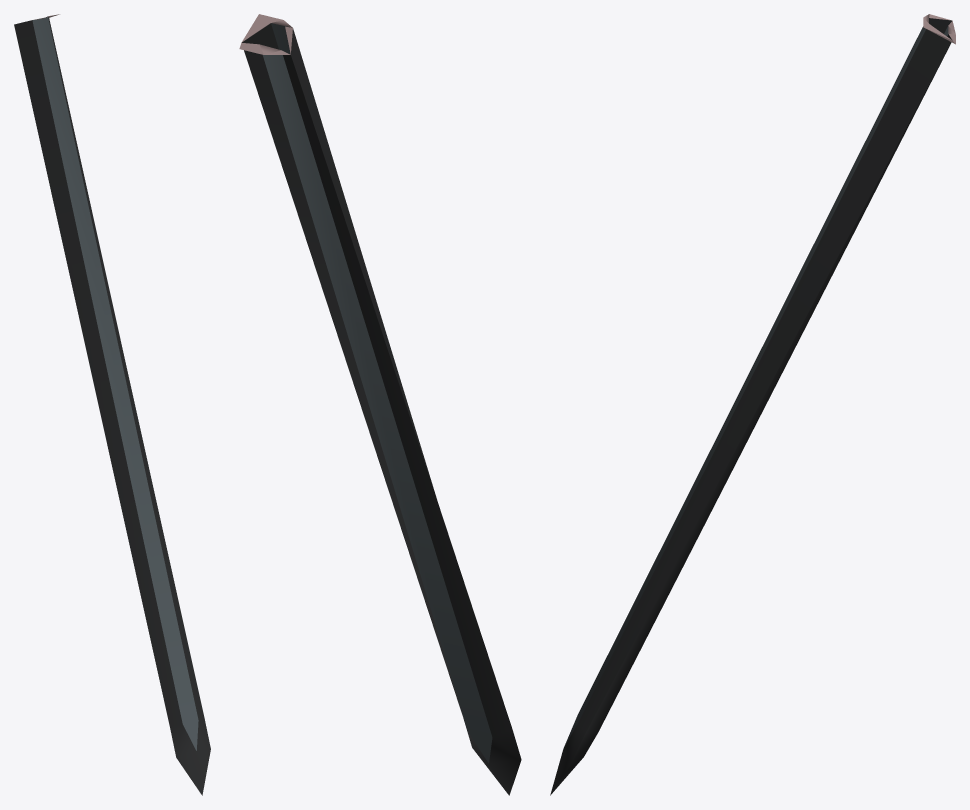
The model's file is NewSwordBlade.fbx.
3 views of the same model, side by side, from view 1: azimuth 30°, elevation 25°; view 2: azimuth 150°, elevation 25°; view 3: azimuth 270°, elevation 25° (orthographic). The views are drawn at different scales.
Visible parts, largest first — view 1: Sword Blade; view 2: Sword Blade; view 3: Sword Blade.
Boxes of the visible parts, left/top/right/bottom form: Sword Blade: left=14, top=14, right=210, bottom=795; Sword Blade: left=239, top=14, right=521, bottom=795; Sword Blade: left=550, top=14, right=955, bottom=795.
Size of the model in its own units: 22.92 by 417 by 197.
